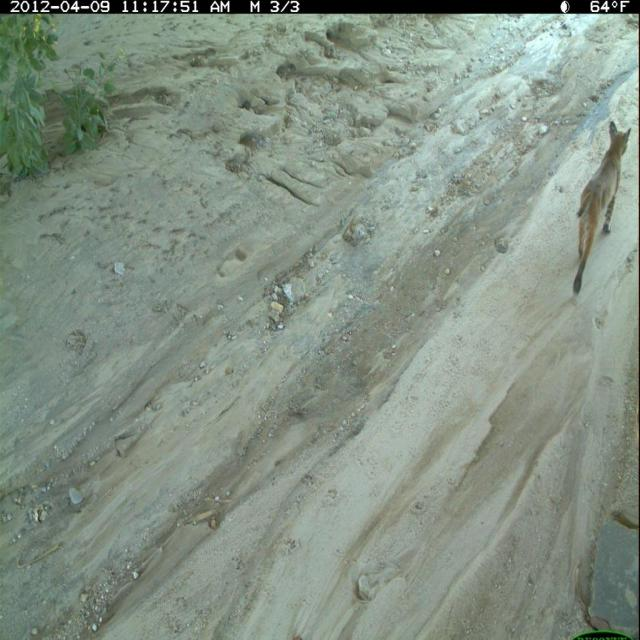bobcat: (569, 117, 634, 302)
